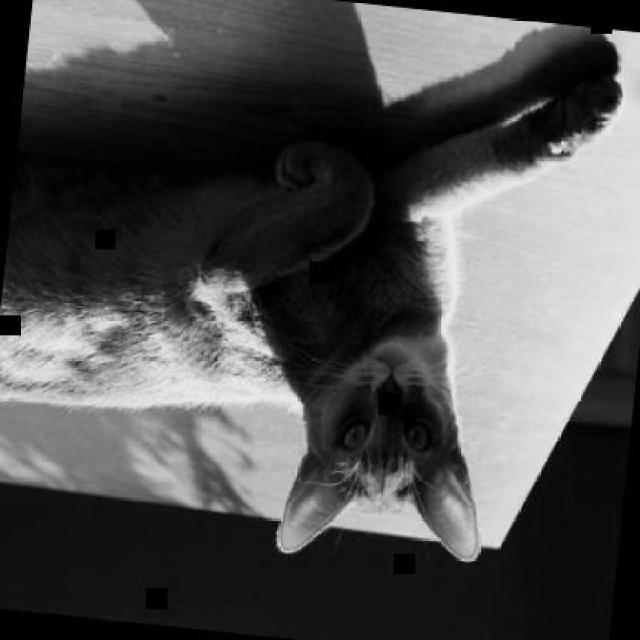Cat: (0, 9, 626, 583)
